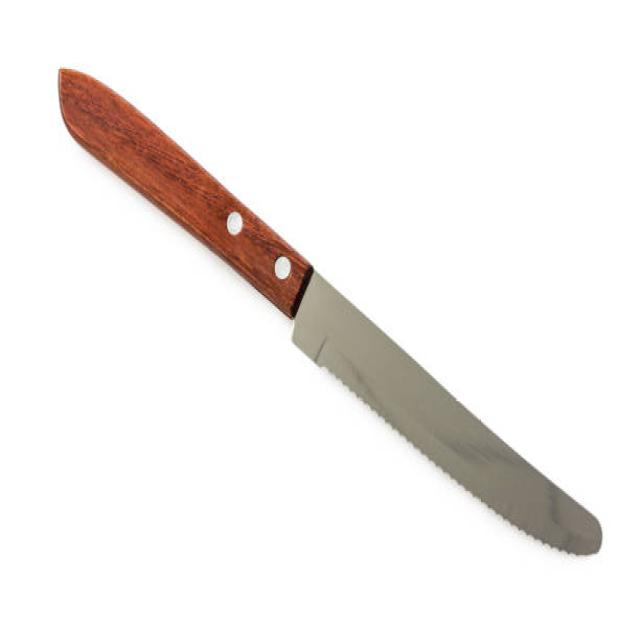knife: (53, 53, 610, 569)
